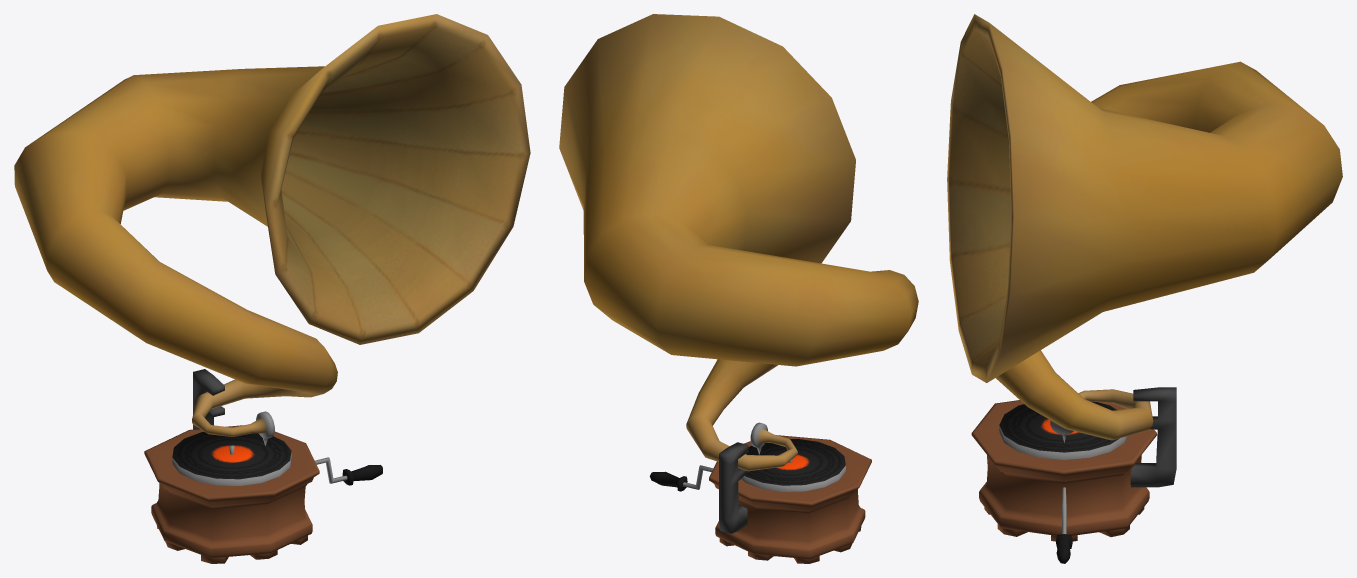
File: stklib_gramophone_a_main.glb
3 renders of one model, left to right at view 1: azimuth 30°, elevation 25°; view 2: azimuth 150°, elevation 25°; view 3: azimuth 270°, elevation 25°, orthographic. The views are drawn at different scales.
Visible parts, largest first — view 1: stk_gramaphone_a.png__; view 2: stk_gramaphone_a.png__; view 3: stk_gramaphone_a.png__.
Boxes of the visible parts, left/top/right/bottom form: stk_gramaphone_a.png__: left=14, top=14, right=530, bottom=563; stk_gramaphone_a.png__: left=559, top=14, right=918, bottom=563; stk_gramaphone_a.png__: left=947, top=14, right=1342, bottom=563.
Bounding box in the file's own units: 6.34 × 7.08 × 4.66.
Materials: 1 (1 with a texture image).
